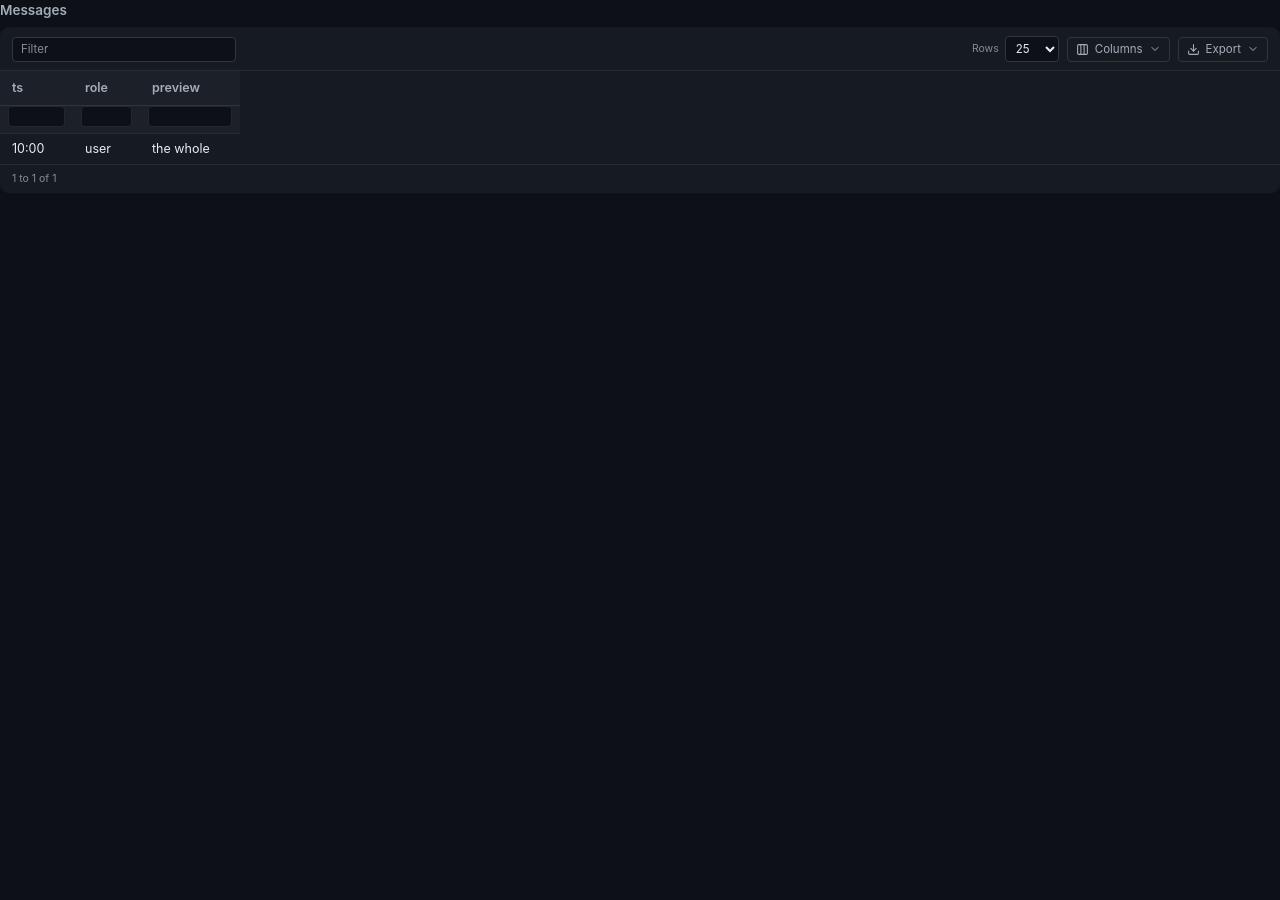
Test: opening a row of the messages table › fetches the full text by the row key and shows it in the drawer
The width and height of the screenshot is (1280, 900).
Click the row "10:00 user the whole". click: x=28, y=149
box: 0,134 -> 240,164
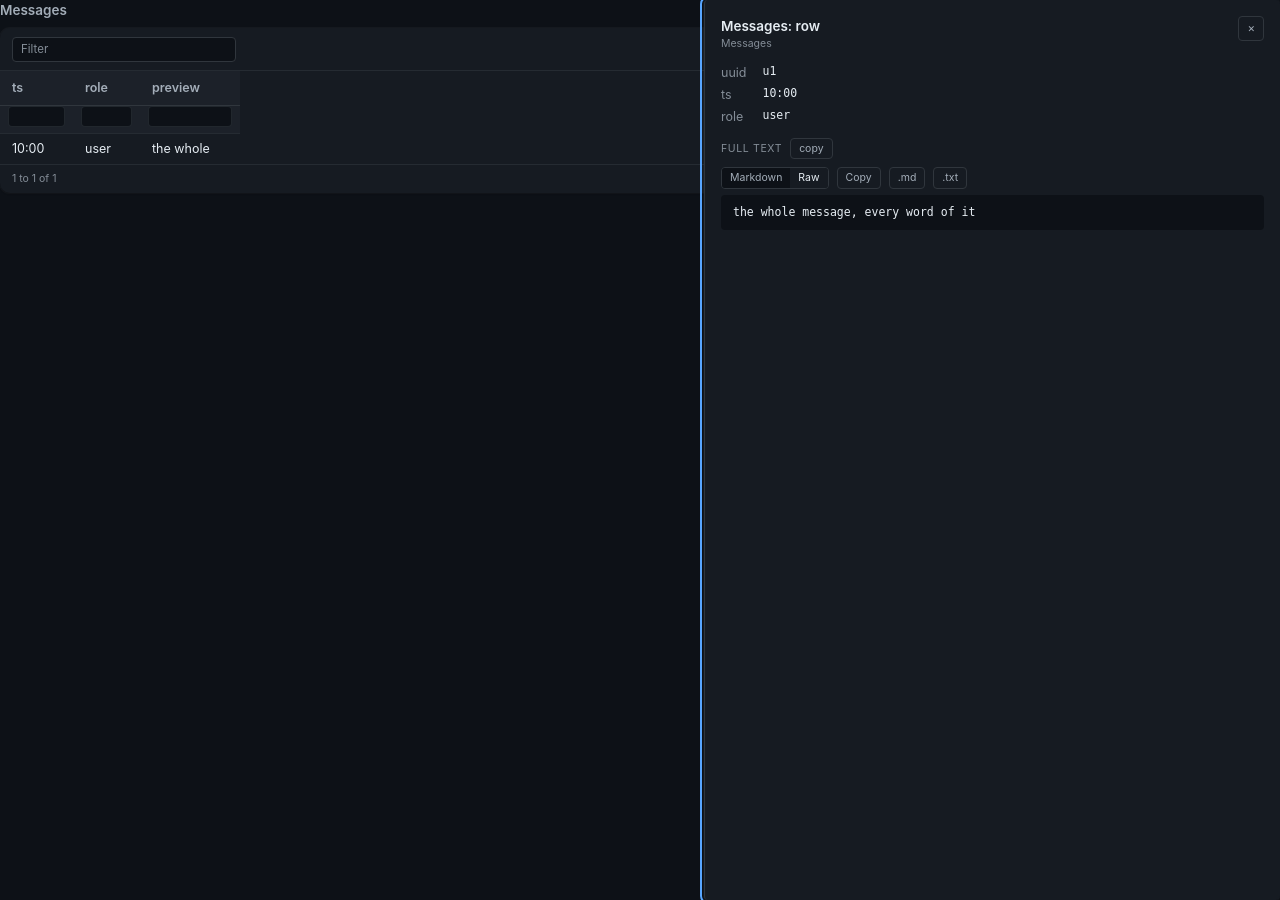
Check: the text "the whole message, every word of it" is shown, box 733,205 -> 975,219
Check: the dialog shows "10:00", box 762,86 -> 797,100
Check: the dialog shows "user", box 762,108 -> 790,122
